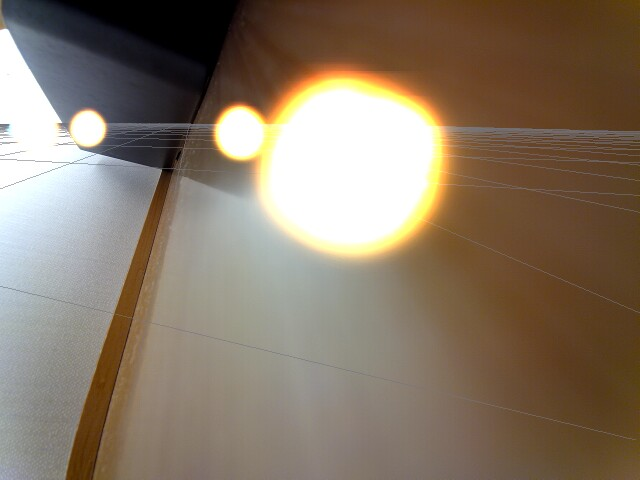firebig: (262, 35, 473, 282)
